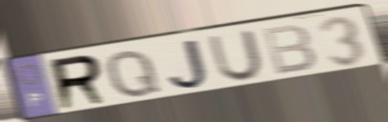3: (318, 12, 369, 70)
B: (260, 22, 319, 77)
J: (166, 37, 211, 92)
Q: (104, 47, 164, 100)
R: (47, 52, 110, 114)
U: (206, 28, 266, 84)
